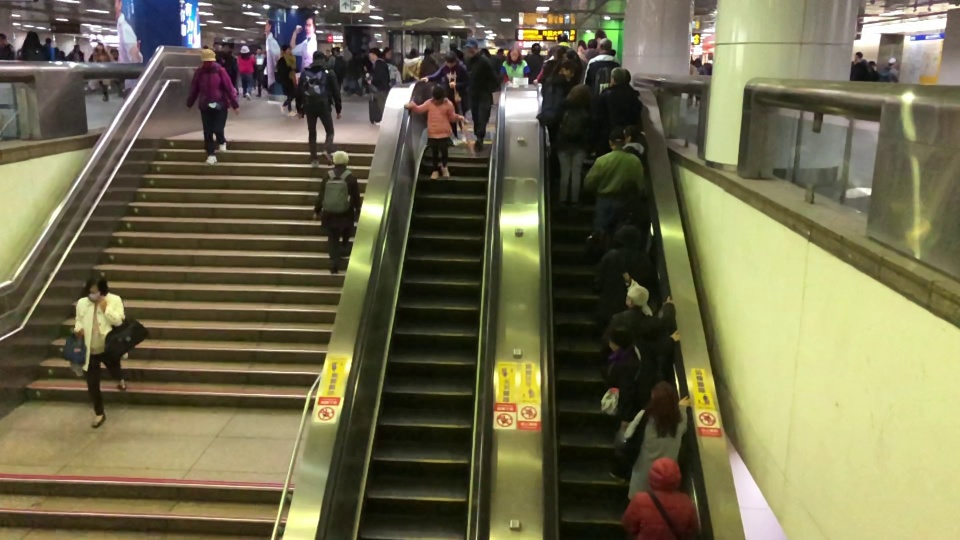person_head: (648, 454, 684, 493), (650, 378, 680, 417), (605, 323, 635, 354), (612, 223, 642, 253), (83, 271, 108, 300), (624, 283, 649, 311), (565, 83, 594, 105), (606, 124, 626, 152), (555, 58, 577, 82), (620, 178, 639, 203), (609, 64, 631, 85), (622, 124, 641, 146), (331, 147, 349, 169), (430, 81, 445, 106), (199, 47, 216, 67), (463, 37, 479, 57), (506, 45, 521, 63), (310, 48, 326, 64), (552, 46, 568, 62), (598, 37, 613, 54), (25, 28, 39, 45), (445, 49, 457, 67), (369, 46, 382, 62), (547, 44, 560, 60), (381, 45, 393, 60), (587, 38, 599, 51), (239, 45, 251, 57), (854, 49, 863, 64), (495, 47, 505, 60), (531, 41, 541, 54), (887, 57, 898, 68), (282, 44, 292, 55), (408, 47, 418, 58), (557, 33, 568, 43), (95, 39, 104, 51), (333, 45, 341, 55), (255, 46, 263, 55), (73, 41, 80, 51), (45, 35, 52, 44)
person_vbox: (59, 270, 127, 428), (581, 124, 648, 251), (597, 324, 683, 421), (626, 381, 694, 501), (620, 453, 703, 540), (595, 225, 658, 333), (540, 83, 594, 206), (185, 47, 240, 166), (597, 282, 676, 364), (310, 149, 360, 276), (403, 85, 466, 182), (294, 48, 342, 168), (539, 56, 573, 202), (418, 50, 471, 143), (462, 39, 501, 154), (593, 67, 643, 151), (597, 176, 651, 248), (580, 38, 621, 98), (361, 47, 391, 123), (539, 44, 570, 99), (274, 43, 297, 117), (497, 45, 531, 83), (543, 33, 581, 67), (91, 40, 112, 101), (16, 28, 51, 61), (236, 43, 256, 100), (532, 46, 561, 83), (622, 123, 648, 162), (521, 42, 545, 83), (327, 45, 347, 91), (381, 45, 402, 87), (401, 46, 422, 85), (850, 49, 871, 83), (252, 44, 265, 98), (879, 56, 901, 82), (580, 39, 602, 65), (65, 43, 85, 63), (42, 34, 55, 61)
